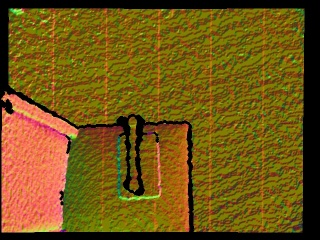station: (117, 114, 161, 200)
